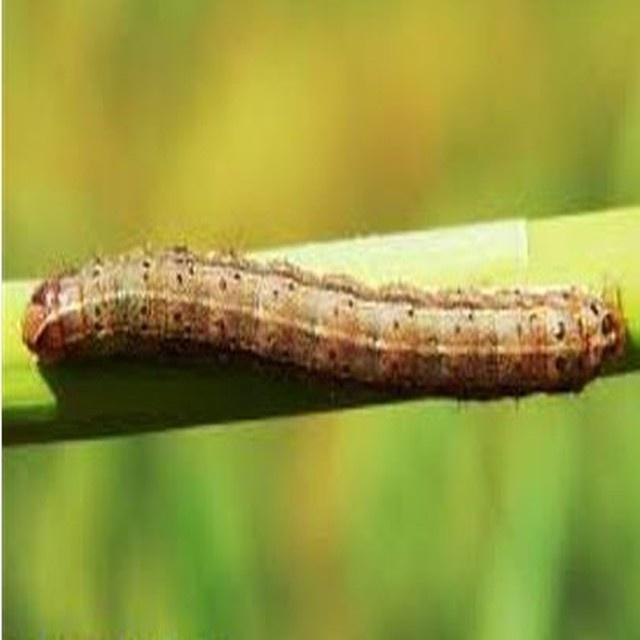Plaga: (20, 243, 630, 398)
